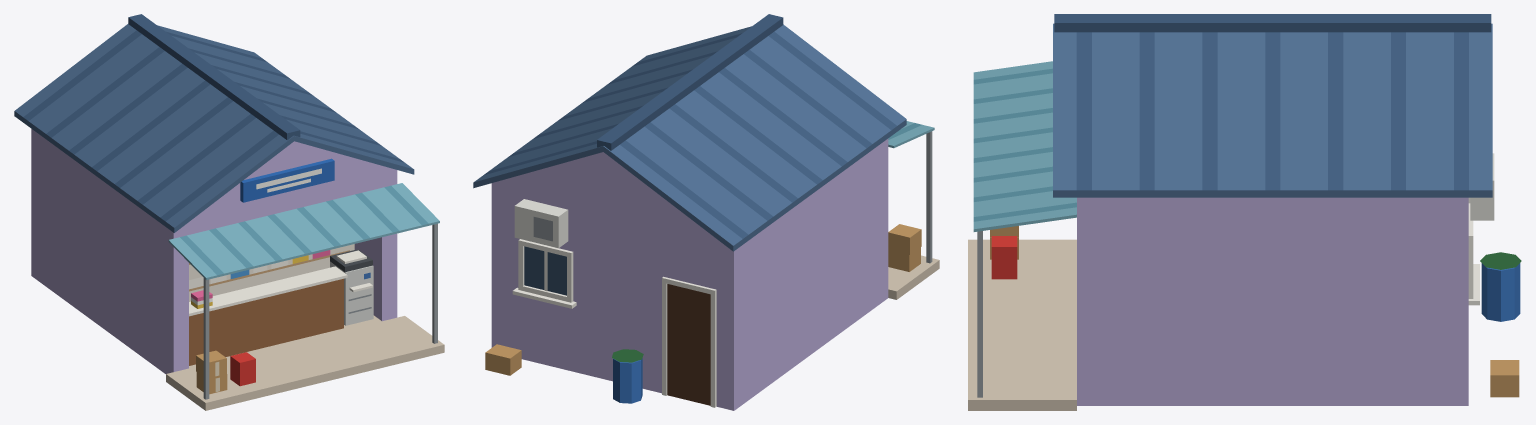
The model's file is warung_05.glb.
3 views of the same model, side by side, from view 1: azimuth 30°, elevation 25°; view 2: azimuth 150°, elevation 25°; view 3: azimuth 270°, elevation 25° (orthographic). The views are drawn at different scales.
Parts seen in each view (by area): view 1: warung_05; view 2: warung_05; view 3: warung_05.
Boxes of the visible parts, x1,y1,x2,y2 form: warung_05: (14, 14, 444, 410); warung_05: (473, 14, 939, 410); warung_05: (968, 14, 1521, 410).
Bounding box in the file's own units: 4.72 × 4.27 × 6.86.
